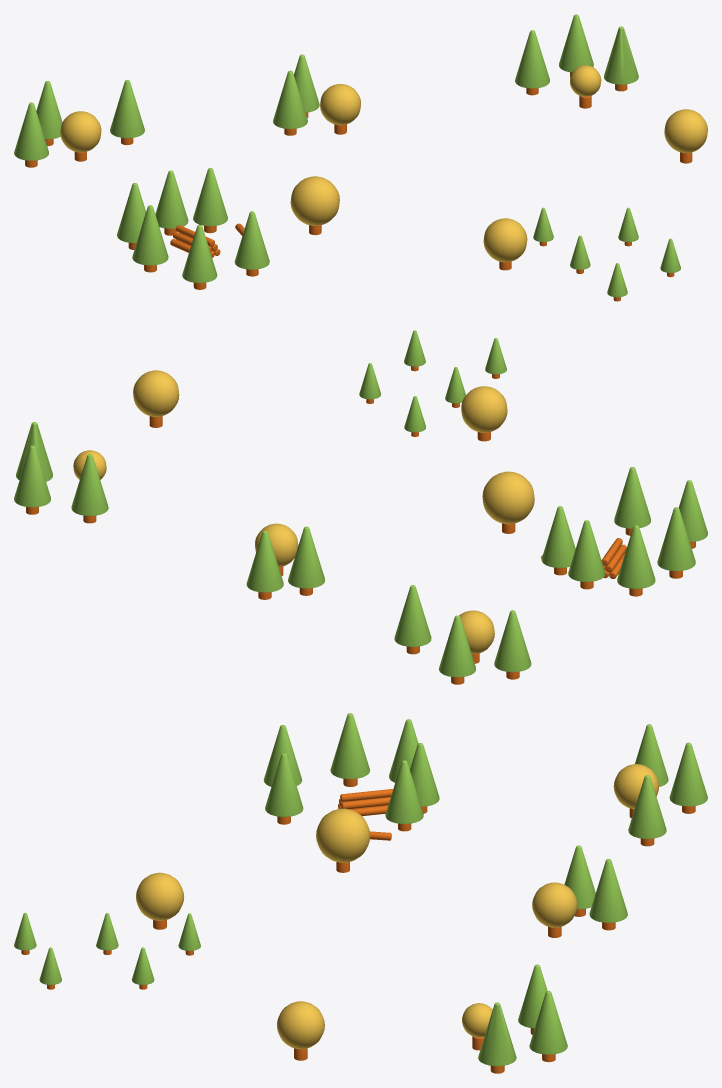
Rendered from small-world.glb.
3 views of the same model, one above another, from view 1: azimuth 30°, elevation 25°; view 2: azimuth 150°, elevation 25°; view 3: azimuth 270°, elevation 25° (orthographic). The views are drawn at different scales.
Parts seen in each view (by area): view 1: foliage.001, foliage.002, foliage.005, foliage.004, foliage, Cylinder.050, Cylinder.048, Cylinder.042, Cylinder.026, Cylinder.047, Cylinder.043, Cylinder.051 (+8 smaller); view 2: foliage.001, foliage.002, foliage.005, Cylinder.050, Cylinder.049, Cylinder.046, Cylinder.053, Cylinder.045, Cylinder.051, Cylinder.028, Cylinder.052, Cylinder.044 (+7 smaller); view 3: foliage.001, foliage.002, foliage.005, foliage, Cylinder.050, Cylinder.046, Cylinder.052, Cylinder.053, Cylinder.043, Cylinder.048, Cylinder.026, Cylinder.028 (+8 smaller).
Part boxes in pixels (x1,y1,x2,y2): foliage.001: (290, 176, 339, 225); foliage.002: (483, 218, 527, 262); foliage.005: (664, 109, 707, 152); foliage.004: (60, 111, 101, 152); foliage: (320, 84, 360, 125); Cylinder.050: (132, 205, 168, 265); Cylinder.048: (234, 211, 269, 269); Cylinder.042: (515, 30, 549, 88); Cylinder.026: (604, 26, 638, 84); Cylinder.047: (182, 224, 217, 282); Cylinder.043: (193, 168, 227, 226); Cylinder.051: (14, 102, 48, 160); foliage.001: (482, 471, 534, 524); foliage.002: (461, 386, 507, 432); foliage.005: (133, 370, 179, 416); Cylinder.050: (657, 507, 695, 571); Cylinder.049: (617, 525, 655, 588); Cylinder.046: (246, 530, 283, 592); Cylinder.053: (394, 585, 431, 646); Cylinder.045: (288, 526, 324, 588); Cylinder.051: (494, 610, 531, 672); Cylinder.028: (14, 445, 50, 507); Cylinder.052: (439, 615, 475, 677); Cylinder.044: (568, 520, 605, 581); foliage.001: (316, 808, 370, 862); foliage.002: (136, 872, 183, 920); foliage.005: (277, 1001, 324, 1049); foliage: (532, 882, 577, 927); Cylinder.050: (330, 713, 369, 779); Cylinder.046: (589, 859, 627, 922); Cylinder.052: (669, 742, 707, 806); Cylinder.053: (628, 775, 666, 838); Cylinder.043: (385, 760, 423, 823); Cylinder.048: (265, 753, 303, 816); Cylinder.026: (478, 1002, 516, 1066); Cylinder.028: (529, 991, 567, 1054).
Size of the model in its own units: 28.98 by 3.11 by 27.98.
